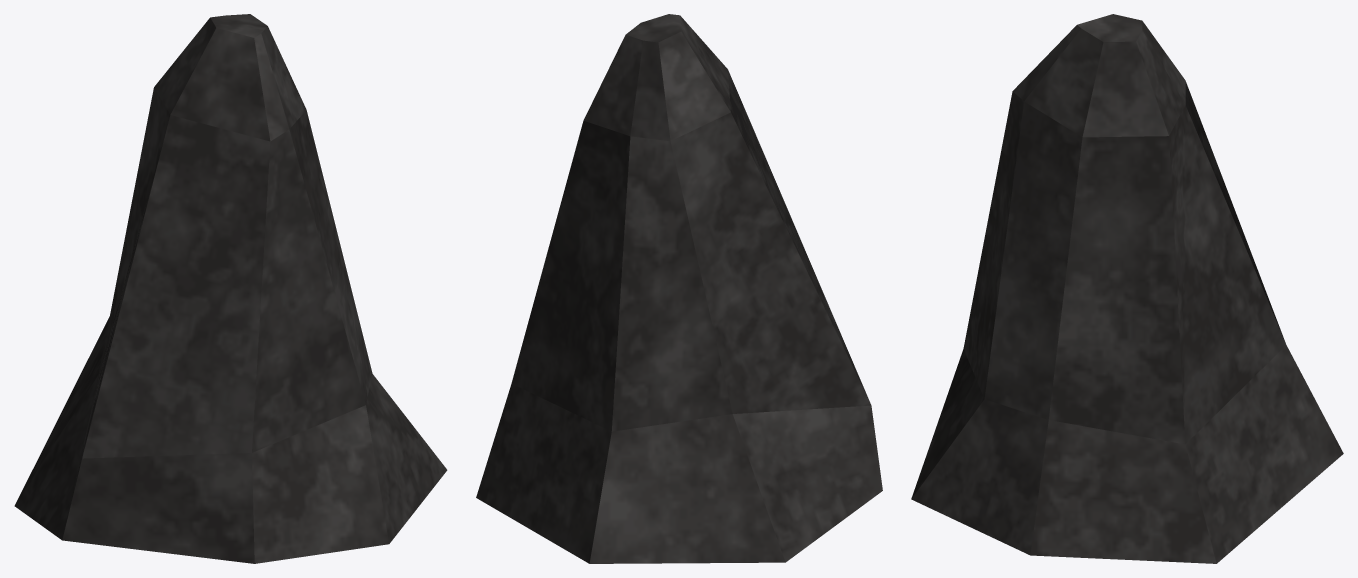
The model's file is rock1.glb.
The picture shows the model from 3 angles, left to right: view 1: azimuth 30°, elevation 25°; view 2: azimuth 150°, elevation 25°; view 3: azimuth 270°, elevation 25°; orthographic projection. The views are drawn at different scales.
Visible parts, largest first — view 1: Cylinder; view 2: Cylinder; view 3: Cylinder.
Part boxes in pixels (bbox=[...]): Cylinder: bbox=[14, 14, 447, 563]; Cylinder: bbox=[476, 14, 882, 563]; Cylinder: bbox=[911, 14, 1343, 563].
Bounding box in the file's own units: 3.61 × 4.48 × 3.71.
1 material, 1 textured.
